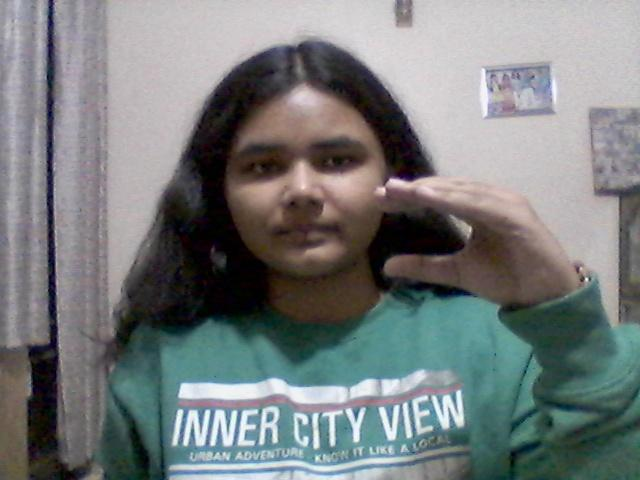no: (356, 159, 583, 318)
